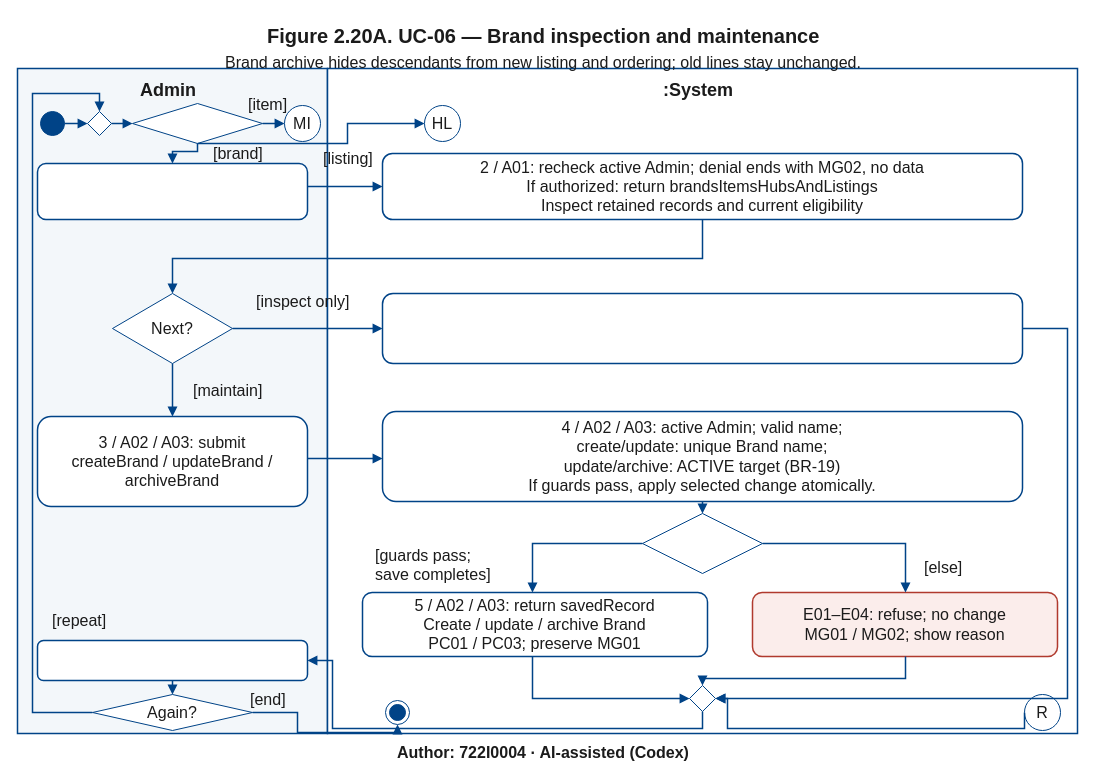
Image size: 1096x781. Some labels were removed from this diagram. Each missing label, with the box of its shape:
1 / A01: request listCatalogue(hubId?): (36, 162, 308, 220)
Observe result: (36, 639, 308, 681)
Read-only inspection No persistent rows changed: (381, 292, 1023, 364)
Saved?: (642, 512, 762, 574)
Target?: (132, 102, 262, 144)
